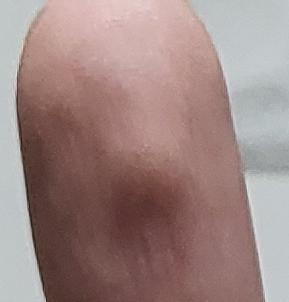Fingerprints: (16, 0, 267, 302)
